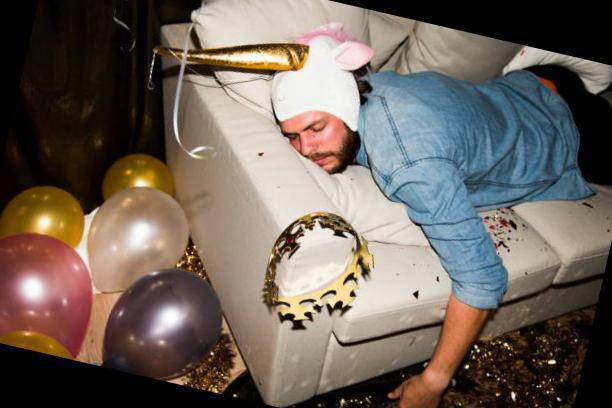Drunk: (283, 111, 351, 173)
